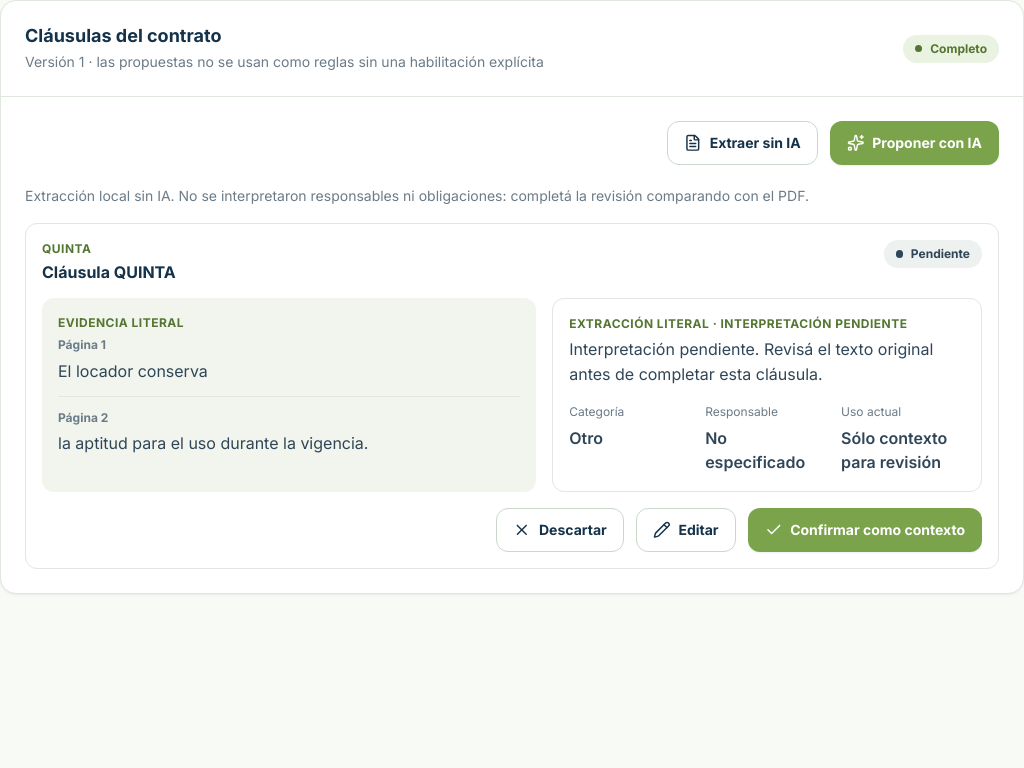
Test: extracción asistida y respaldo literal › muestra un error de la acción sin eliminar la evidencia anterior
Click the button "Extraer sin IA" at {"x": 742, "y": 143}, box x1=667 y1=121 x2=818 y2=165
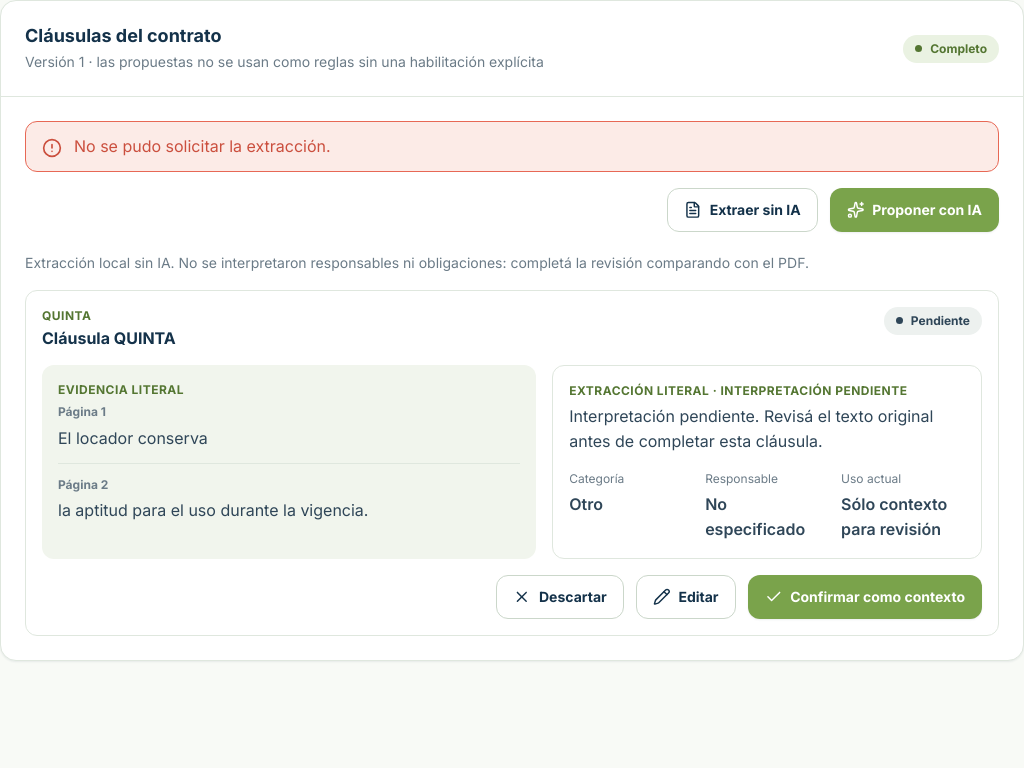
Expected: the text "El locador conserva" is shown, x1=58 y1=428 x2=208 y2=448
Result: the message reads "No se pudo solicitar la extracción." at x1=74 y1=136 x2=331 y2=156
